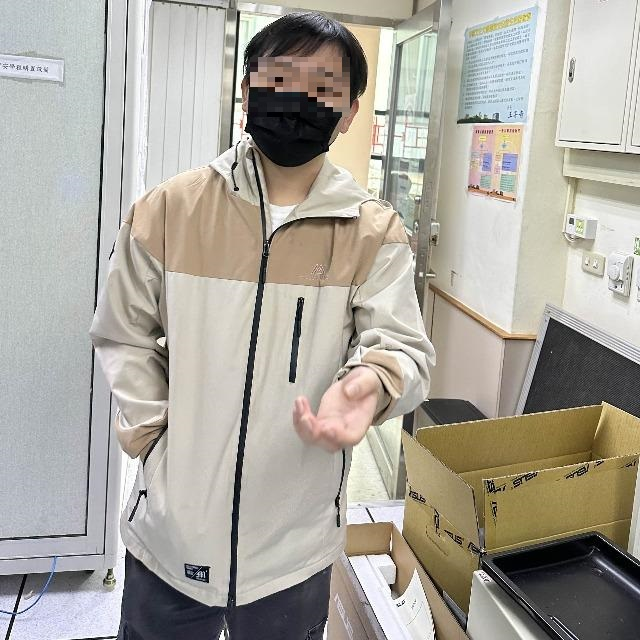NoHelmet: (238, 15, 370, 165)
NoVest: (126, 154, 395, 556)
